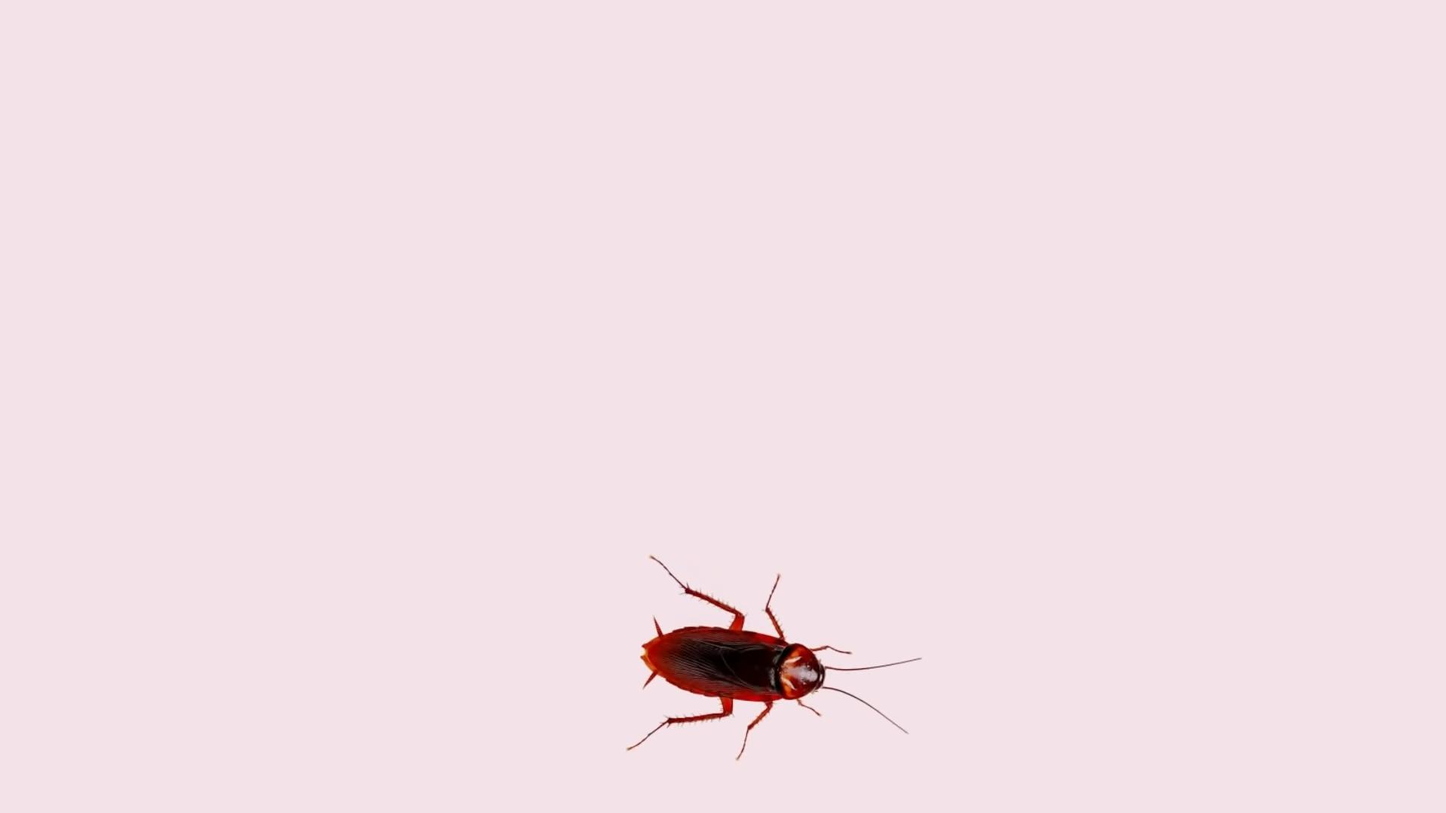cockroach: (618, 558, 916, 765)
